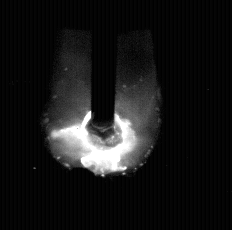arame: (92, 0, 116, 147)
poca: (47, 0, 160, 230)
